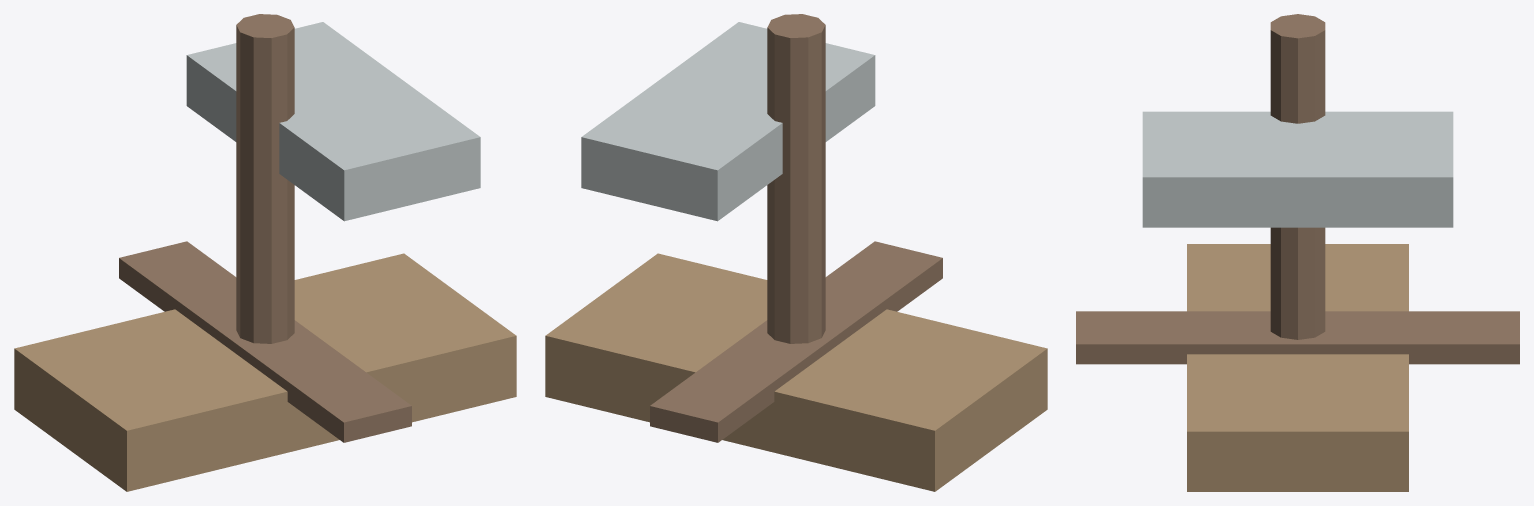
File: barco_simple.glb
3 renders of one model, left to right at view 1: azimuth 30°, elevation 25°; view 2: azimuth 150°, elevation 25°; view 3: azimuth 270°, elevation 25°, orthographic.
Visible parts, largest first — view 1: part_000, part_003, part_002, part_001; view 2: part_000, part_003, part_002, part_001; view 3: part_000, part_003, part_001, part_002.
Boxes of the visible parts, <box> form: part_000: <box>14,253,516,491</box>; part_003: <box>186,22,480,221</box>; part_002: <box>236,14,294,343</box>; part_001: <box>119,241,411,442</box>; part_000: <box>545,253,1047,491</box>; part_003: <box>581,22,875,221</box>; part_002: <box>767,14,825,343</box>; part_001: <box>650,241,942,442</box>; part_000: <box>1187,244,1408,491</box>; part_003: <box>1142,111,1453,227</box>; part_001: <box>1076,311,1519,364</box>; part_002: <box>1270,14,1325,339</box>.
Size of the model in its own units: 2 by 1.85 by 2.
